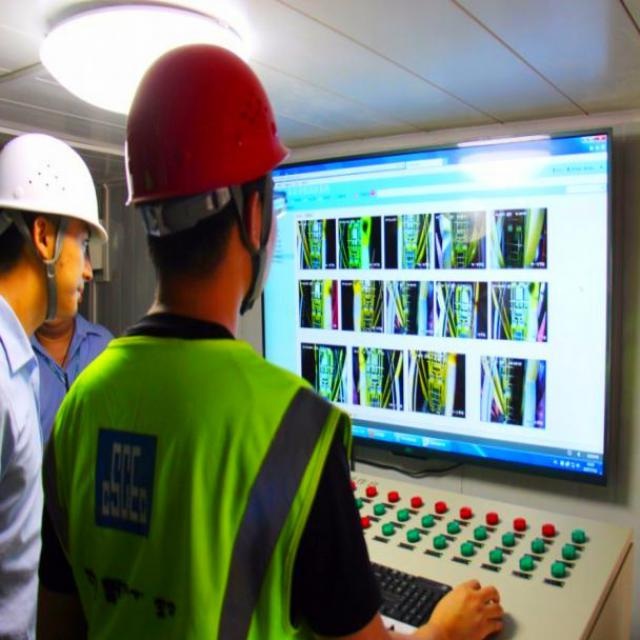helmet: (94, 27, 290, 310), (0, 100, 100, 333)
vest: (59, 332, 332, 639)
